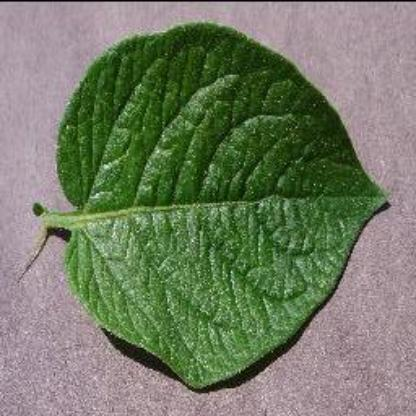Healthy-plant: (28, 20, 390, 398)
